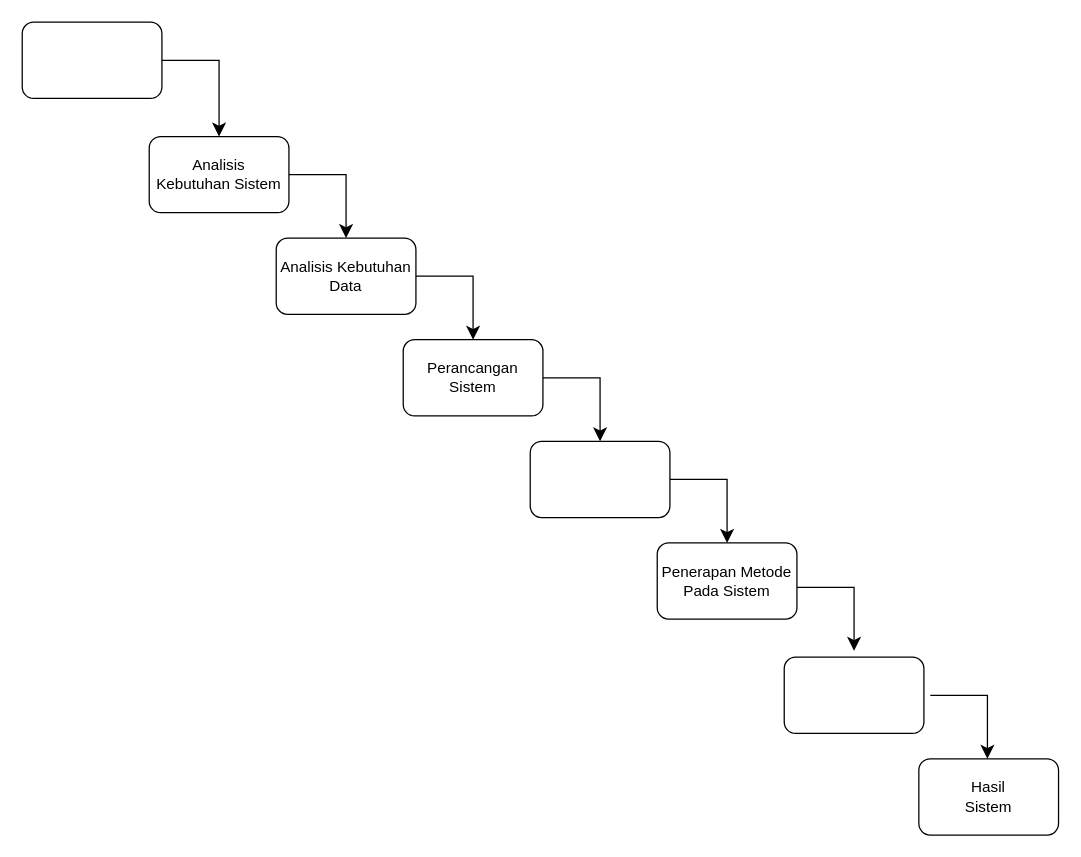
Image size: 1081x857. Some labels were removed from this diagram. Here are the shapes that lost their labels. From the top down, the box of each, then its label:
(21, 21, 162, 98): Analisis Permasalahan
(529, 440, 670, 518): Desain Rancangan Sistem
(783, 656, 924, 733): Pengujian Sistem
